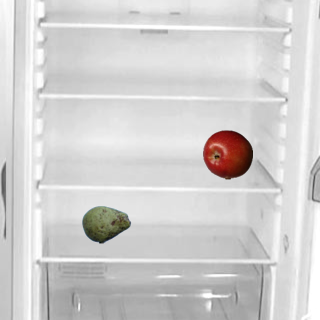Apple Braeburn: (202, 129, 252, 179)
Pear Stone: (81, 199, 131, 249)
